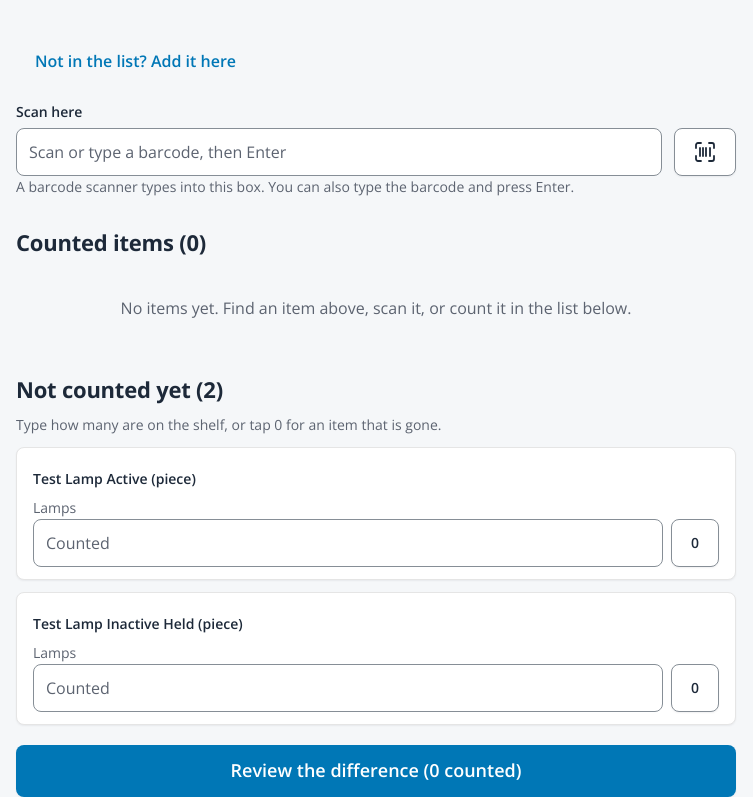
counting the sheet › withdraws the question when a count changes, so Review the difference anyway never sends an invalid or empty count
The image size is (753, 797).
(page scrolled)
Expected: the text "No items yet. Find an item above, scan it, or count it in the list below." is shown, x1=121 y1=297 x2=631 y2=319
Type "3" into the field with id "count-I-1" at (348, 688), box x1=33 y1=664 x2=663 y2=712
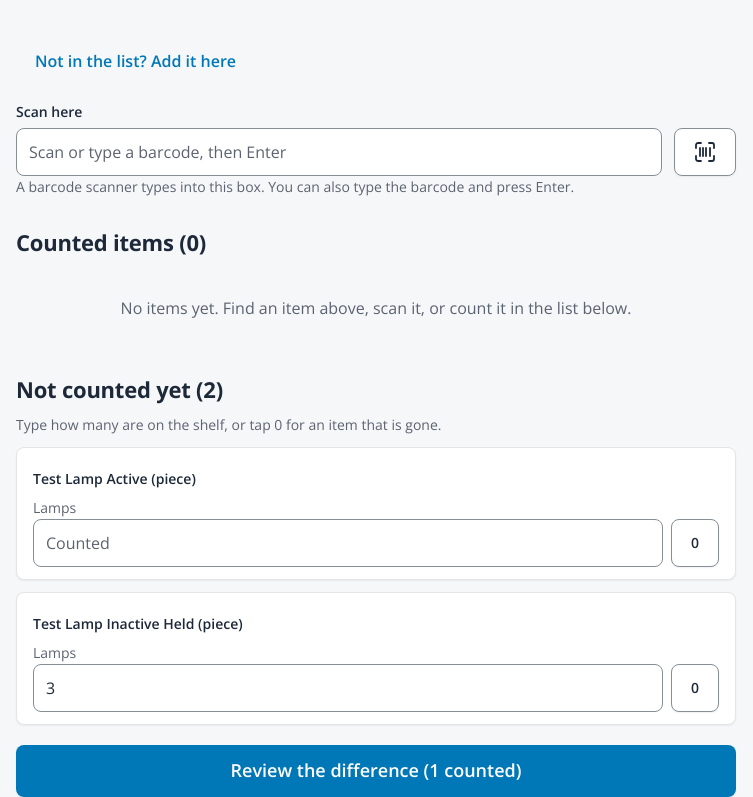
Click the button "Review the difference (1 counted)" at (376, 771), box x1=16 y1=745 x2=736 y2=796
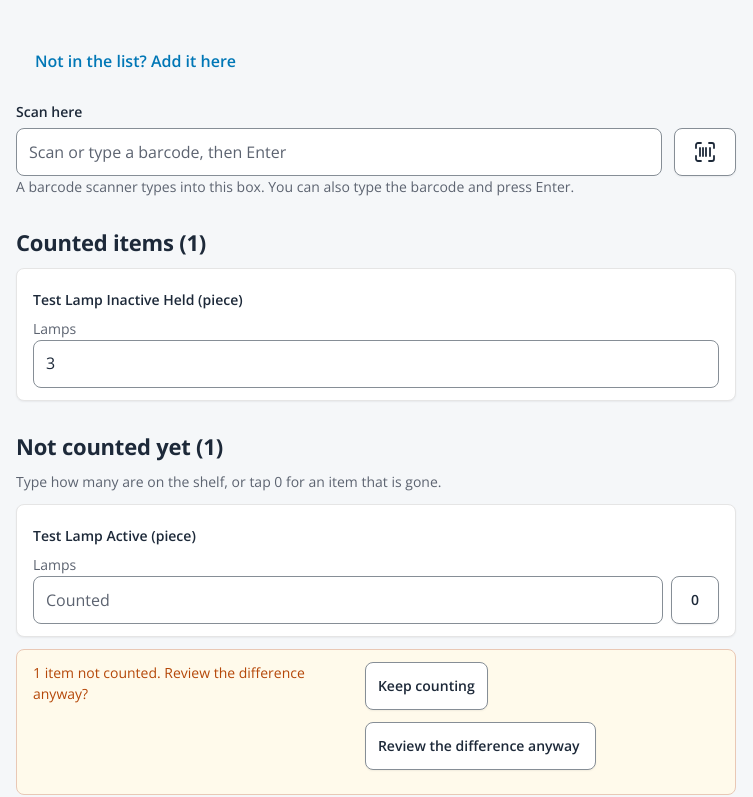
Expected: the message with test id "count-not-done" is shown, x1=16 y1=649 x2=736 y2=795
Replace the text in the field with id "count-I-1" with "4x" at (376, 364), box x1=33 y1=340 x2=719 y2=388
(page scrolled)
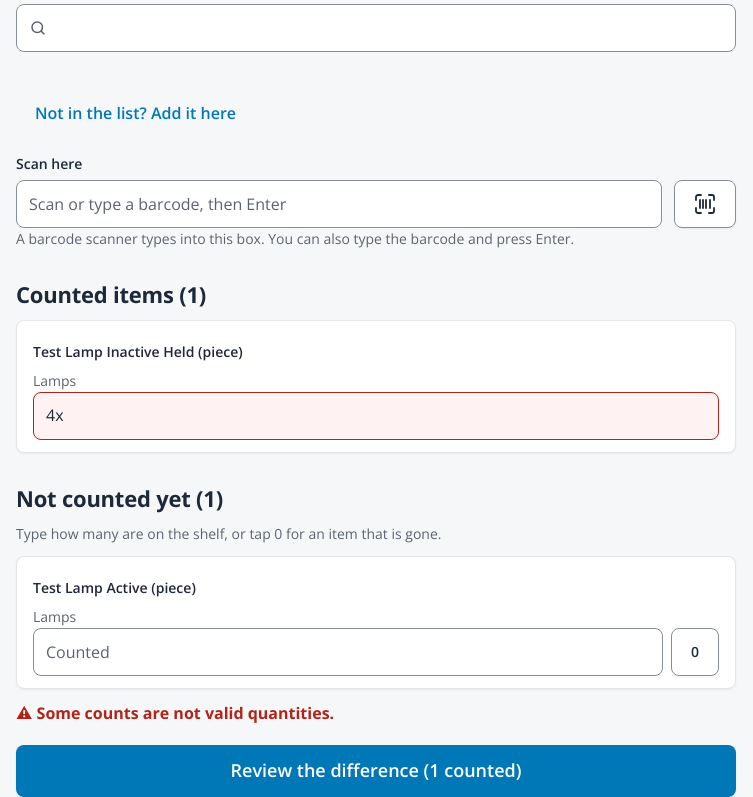
Expected: the message with test id "count-not-done" is gone
Expected: the text "Review the difference anyway" is gone
